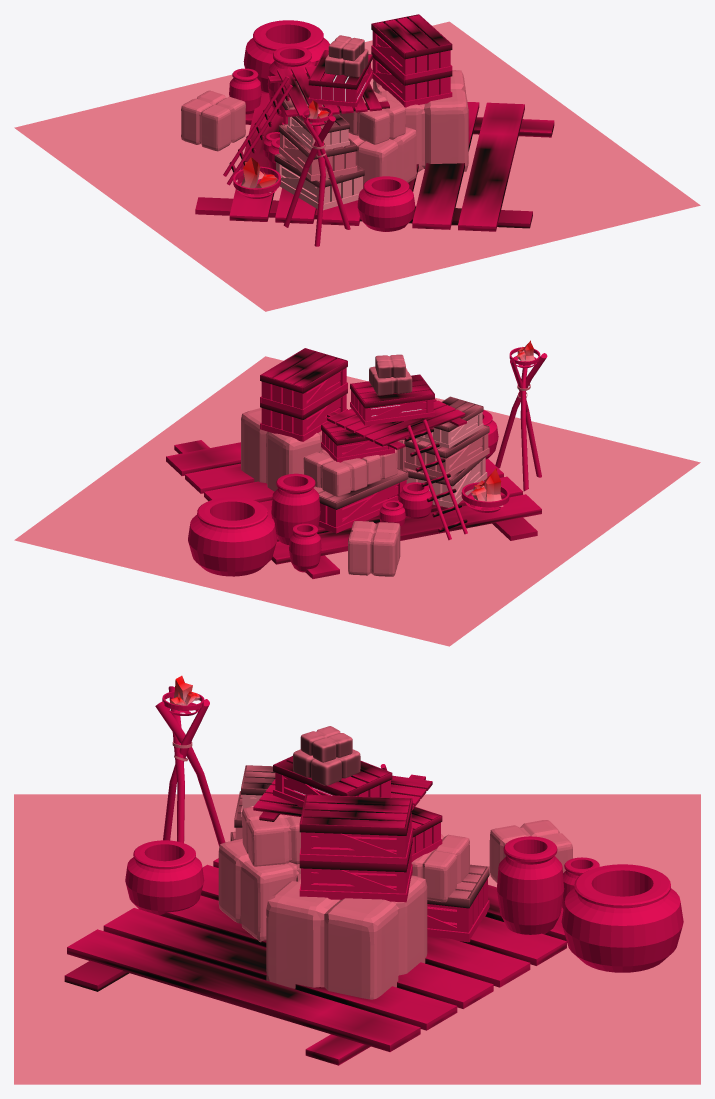
The model's file is baggage_pink.fbx.
The picture shows the model from 3 angles, top to bottom: view 1: azimuth 30°, elevation 25°; view 2: azimuth 150°, elevation 25°; view 3: azimuth 270°, elevation 25°; orthographic projection. The views are drawn at different scales.
Visible parts, largest first — view 1: Plane, Cube.059, Cube.028, Cube.027, Cylinder.028, Cylinder.026, Cube.030, Cube.117, Cylinder.036, Cube.072, Cube.029, Cube.118 (+16 smaller); view 2: Plane, Cube.059, Cylinder.028, Cube.028, Cube.027, Cylinder.029, Cube.072, Cube.117, Cube.114, Cylinder.036, Cube.118, Cube.107 (+21 smaller); view 3: Plane, Cube.059, Cube.028, Cylinder.028, Cylinder.029, Cylinder.026, Cube.030, Cube.117, Cube.112, Cube.118, Cylinder.036, Cube.029 (+13 smaller).
Part boxes in pixels (bbox=[...]): Plane: bbox=[14, 21, 700, 311]; Cube.059: bbox=[195, 93, 554, 231]; Cube.028: bbox=[373, 70, 468, 172]; Cube.027: bbox=[181, 90, 245, 151]; Cylinder.028: bbox=[243, 20, 329, 93]; Cylinder.026: bbox=[357, 176, 415, 231]; Cube.030: bbox=[348, 127, 416, 188]; Cube.117: bbox=[371, 14, 452, 59]; Cylinder.036: bbox=[283, 116, 350, 246]; Cube.072: bbox=[268, 66, 389, 117]; Cube.029: bbox=[339, 91, 405, 144]; Cube.118: bbox=[371, 19, 452, 80]; Plane: bbox=[14, 356, 700, 646]; Cube.059: bbox=[166, 440, 541, 578]; Cylinder.028: bbox=[188, 497, 276, 576]; Cube.028: bbox=[241, 407, 323, 491]; Cube.027: bbox=[348, 521, 400, 576]; Cylinder.029: bbox=[271, 473, 320, 544]; Cube.072: bbox=[327, 399, 466, 449]; Cube.117: bbox=[260, 348, 347, 393]; Cube.114: bbox=[303, 449, 367, 496]; Cylinder.036: bbox=[495, 353, 547, 491]; Cube.118: bbox=[260, 367, 347, 415]; Cube.107: bbox=[318, 480, 406, 533]; Plane: bbox=[14, 794, 700, 1084]; Cube.059: bbox=[64, 858, 566, 1065]; Cube.028: bbox=[266, 872, 427, 999]; Cylinder.028: bbox=[561, 864, 683, 972]; Cylinder.029: bbox=[497, 836, 564, 934]; Cylinder.026: bbox=[125, 840, 204, 915]; Cube.030: bbox=[218, 838, 300, 942]; Cube.117: bbox=[299, 794, 412, 835]; Cube.112: bbox=[299, 848, 412, 902]; Cube.118: bbox=[299, 812, 412, 864]; Cylinder.036: bbox=[155, 686, 225, 846]; Cube.029: bbox=[242, 807, 300, 866].
Size of the model in its own units: 1000 by 311 by 1000.
